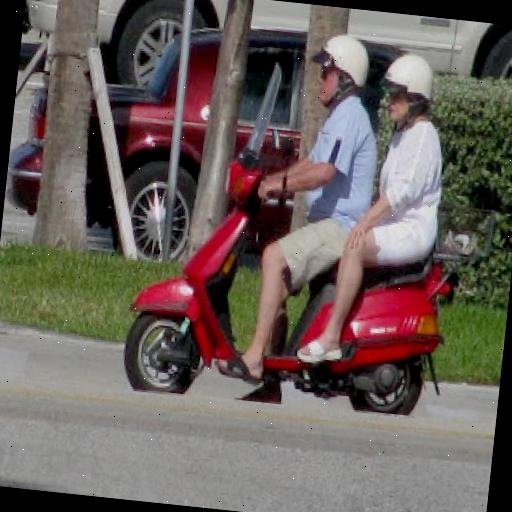helmet: (115, 0, 392, 395)
